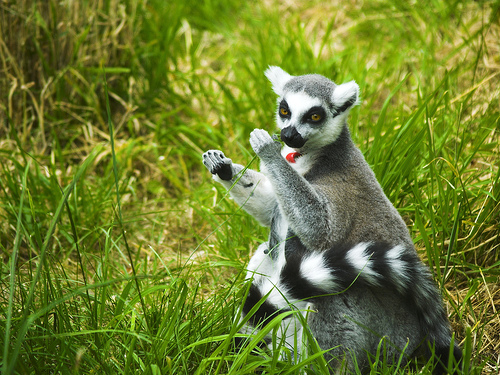cat: (200, 64, 464, 366)
